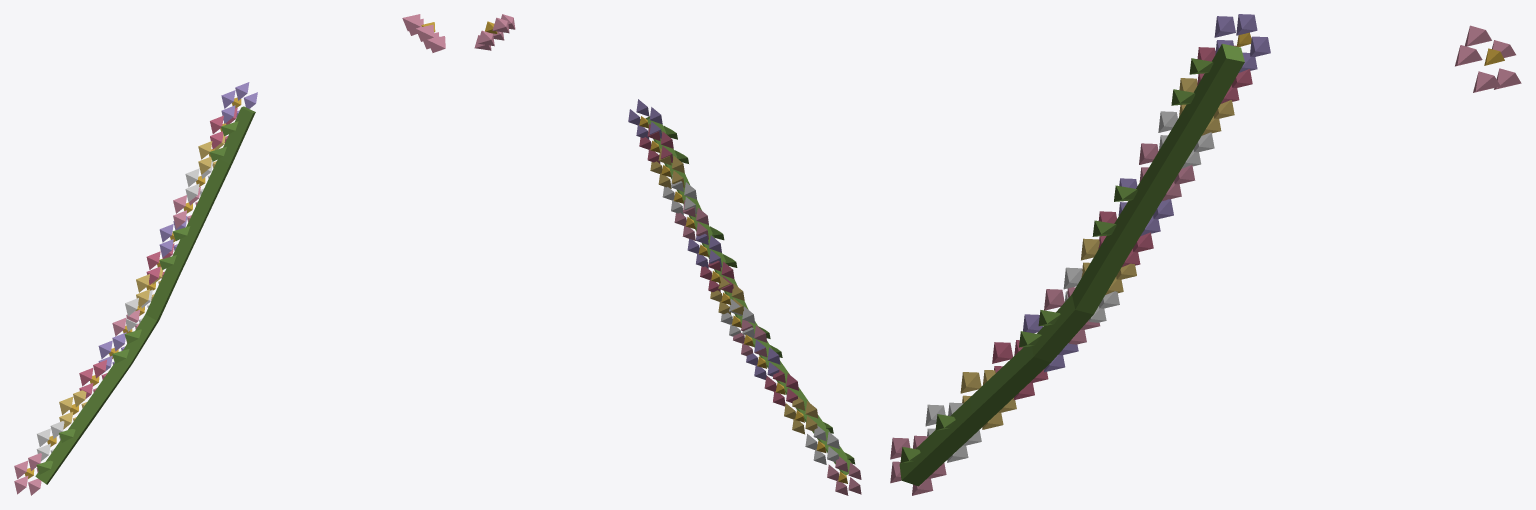
File: gd_horse_maneflowers.glb
3 renders of one model, left to right at view 1: azimuth 30°, elevation 25°; view 2: azimuth 150°, elevation 25°; view 3: azimuth 330°, elevation 25°, orthographic. The views are drawn at different scales.
Visible parts, largest first — view 1: base; view 2: base; view 3: base.
Part boxes in pixels (x1,y1,x2,y2): base: (14, 14, 445, 495); base: (474, 14, 861, 495); base: (890, 14, 1521, 495).
Bounding box in the file's own units: 0.2997 × 0.2772 × 0.0408.
